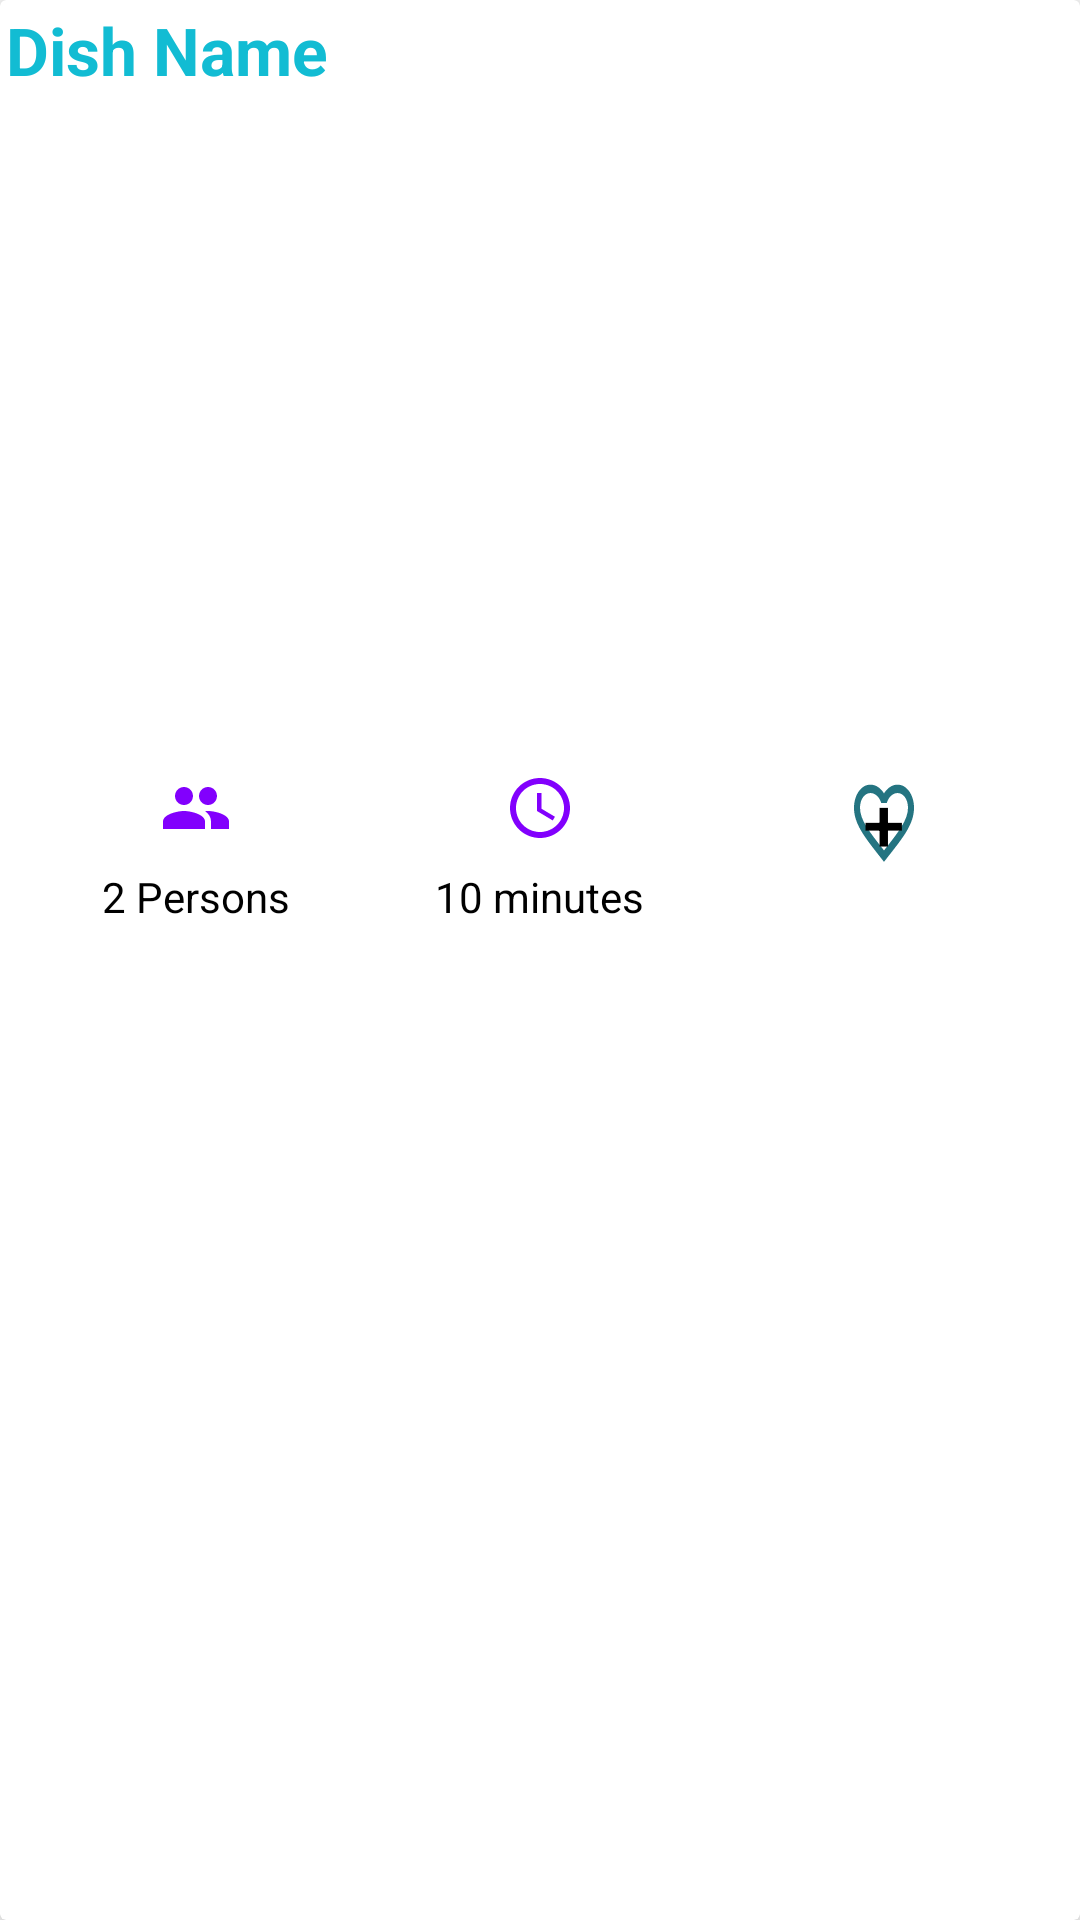

Named icons in this screenshot (1080px×1920px) and their bounding boxes, bbox(x1, y1, x2, y2):
servings: bbox(163, 787, 229, 829)
time: bbox(510, 778, 570, 838)
